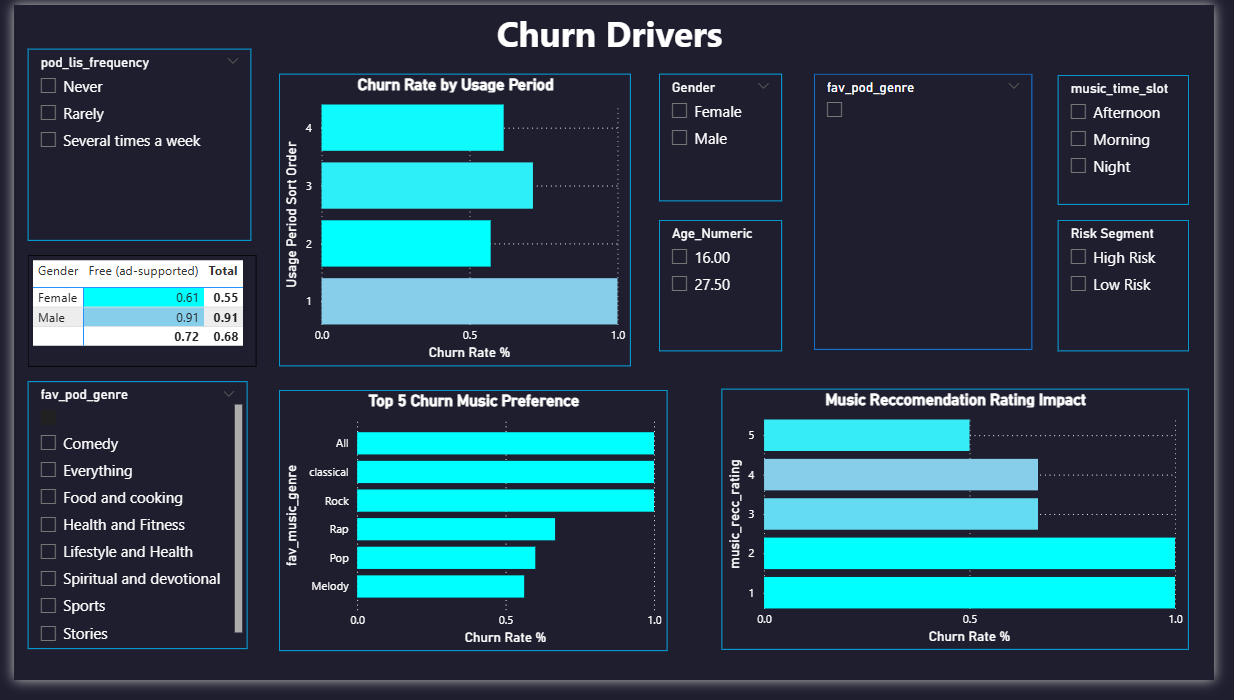

The dashboard page shown, as its layout file describes it:
{"tool":"powerbi","page":{"name":"Drivers","canvas":[1280,720],"ordinal":1},"visuals":[{"type":"textbox","box":[461.4,0,358.3,73.6],"z":0},{"type":"pivotTable","fields":{"Rows":["spotify_churn_predictions.Gender"],"Columns":["spotify_churn_predictions.spotify_subscription_plan"],"Values":["spotify_churn_predictions.Churn Rate %"]},"box":[14.7,266.3,244.2,119],"z":1000},{"type":"barChart","title":"Churn Rate by Usage Period","fields":{"Y":["spotify_churn_predictions.Churn Rate %"],"Category":["spotify_churn_predictions.Usage Period Sort Order"]},"box":[282.2,73.6,375.5,311.7],"z":2000},{"type":"clusteredBarChart","title":"Top 5 Churn Music Preference ","fields":{"Category":["spotify_churn_predictions.fav_music_genre"],"Y":["spotify_churn_predictions.Churn Rate %"]},"box":[282.7,410.3,414.4,278.6],"z":3000},{"type":"barChart","title":"Music Reccomendation Rating Impact","fields":{"Category":["spotify_churn_predictions.music_recc_rating"],"Y":["spotify_churn_predictions.Churn Rate %"]},"box":[754.7,408.9,498.1,278.6],"z":4000},{"type":"slicer","fields":{"Values":["spotify_churn_predictions.Age_Numeric"]},"box":[688.3,229.4,131.3,139.9],"z":5000},{"type":"slicer","fields":{"Values":["spotify_churn_predictions.Gender"]},"box":[688.3,73.6,131.3,136.2],"z":6000},{"type":"slicer","fields":{"Values":["spotify_churn_predictions.fav_pod_genre"]},"box":[14.7,401.2,234.4,285.9],"z":7000},{"type":"slicer","fields":{"Values":["spotify_churn_predictions.music_time_slot"]},"box":[1112.9,74.8,139.9,138.7],"z":8000},{"type":"slicer","fields":{"Values":["spotify_churn_predictions.pod_lis_frequency"]},"box":[15.1,46.7,238.8,204.5],"z":9000},{"type":"slicer","fields":{"Values":["spotify_churn_predictions.fav_pod_genre"]},"box":[852.8,73.6,233.1,294.5],"z":10000},{"type":"slicer","fields":{"Values":["spotify_churn_predictions.Risk Segment"]},"box":[1112.9,229.4,139.9,139.9],"z":11000}]}

Visuals, with their boxes in screenshot pixels (x1, y1, x2, y2), scaled from the page's 1280x720 canvas onto the 1234x700 screenshot:
textbox: (left=445, top=0, right=790, bottom=72)
pivotTable - spotify_churn_predictions.Gender x spotify_churn_predictions.spotify_subscription_plan: (left=14, top=259, right=250, bottom=375)
"Churn Rate by Usage Period" barChart: (left=272, top=72, right=634, bottom=375)
"Top 5 Churn Music Preference " clusteredBarChart: (left=273, top=399, right=672, bottom=670)
"Music Reccomendation Rating Impact" barChart: (left=728, top=398, right=1208, bottom=668)
slicer - spotify_churn_predictions.Age_Numeric: (left=664, top=223, right=790, bottom=359)
slicer - spotify_churn_predictions.Gender: (left=664, top=72, right=790, bottom=204)
slicer - spotify_churn_predictions.fav_pod_genre: (left=14, top=390, right=240, bottom=668)
slicer - spotify_churn_predictions.music_time_slot: (left=1073, top=73, right=1208, bottom=208)
slicer - spotify_churn_predictions.pod_lis_frequency: (left=15, top=45, right=245, bottom=244)
slicer - spotify_churn_predictions.fav_pod_genre: (left=822, top=72, right=1047, bottom=358)
slicer - spotify_churn_predictions.Risk Segment: (left=1073, top=223, right=1208, bottom=359)
